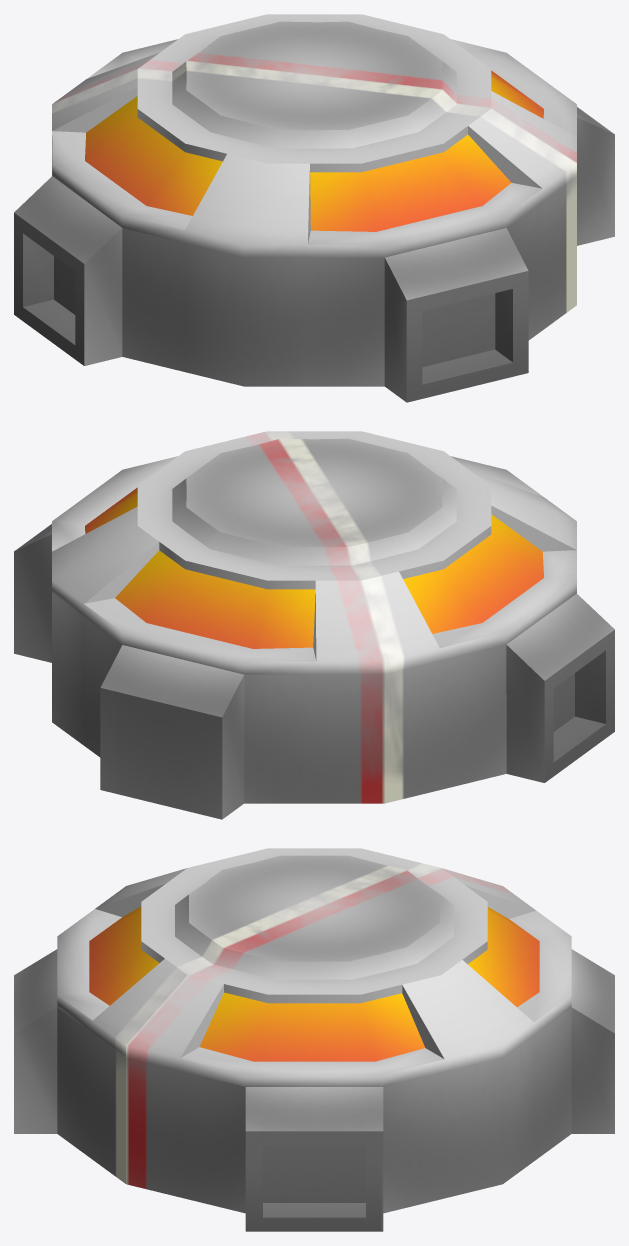
The model's file is Bunker_01.fbx.
3 renders of one model, top to bottom at view 1: azimuth 30°, elevation 25°; view 2: azimuth 150°, elevation 25°; view 3: azimuth 270°, elevation 25°, orthographic.
Parts seen in each view (by area): view 1: Bunker; view 2: Bunker; view 3: Bunker.
Boxes of the visible parts, x1,y1,x2,y2 form: Bunker: [14, 14, 614, 402]; Bunker: [14, 431, 614, 819]; Bunker: [14, 848, 614, 1231].
Size of the model in its own units: 23.5 by 8.46 by 23.5.
